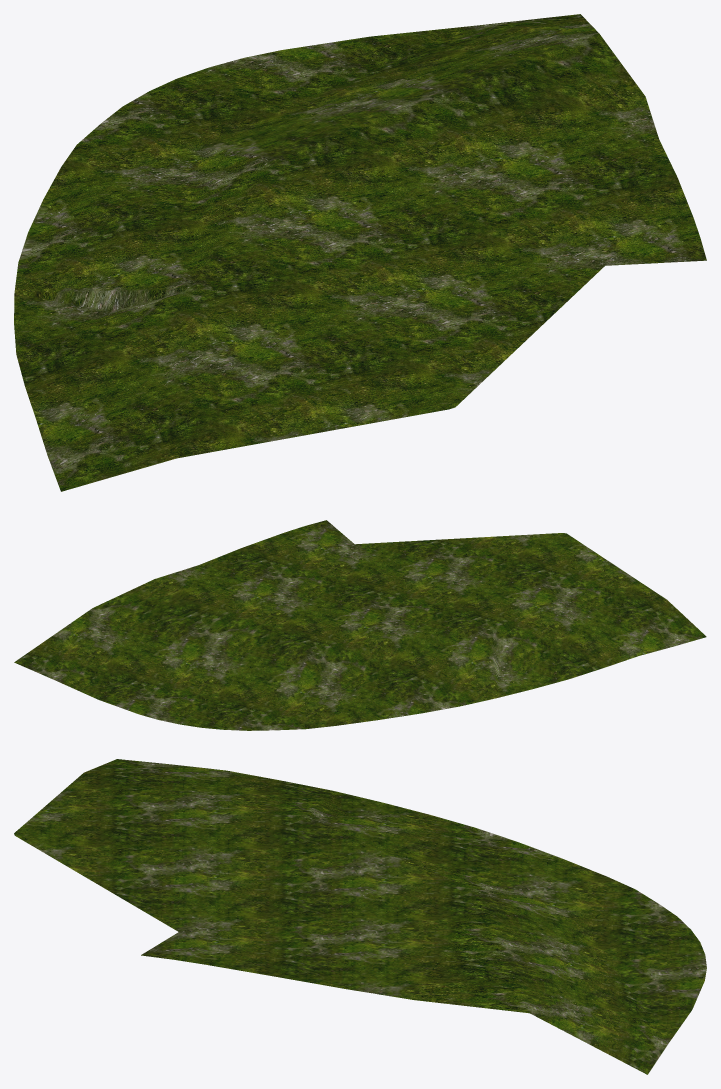
The model's file is STA20_64.FBX.
The picture shows the model from 3 angles, top to bottom: view 1: azimuth 30°, elevation 25°; view 2: azimuth 150°, elevation 25°; view 3: azimuth 270°, elevation 25°; orthographic projection. The views are drawn at different scales.
Visible parts, largest first — view 1: STA20_64; view 2: STA20_64; view 3: STA20_64.
Part boxes in pixels (x1,y1,x2,y2): STA20_64: (14,14,706,491); STA20_64: (14,520,706,730); STA20_64: (14,759,706,1074).
Size of the model in its own units: 22.95 by 1.52 by 21.15.
